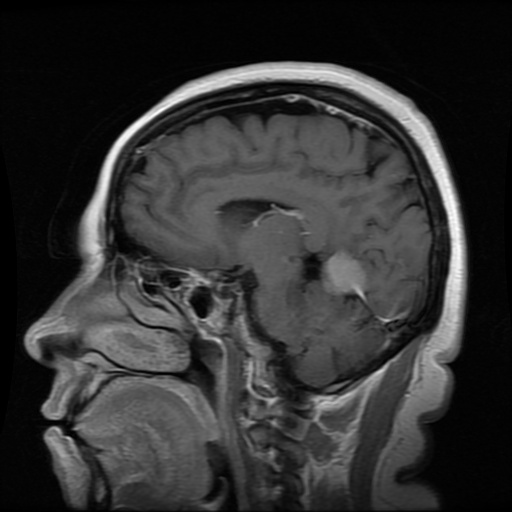meningioma: (324, 253, 368, 295)
